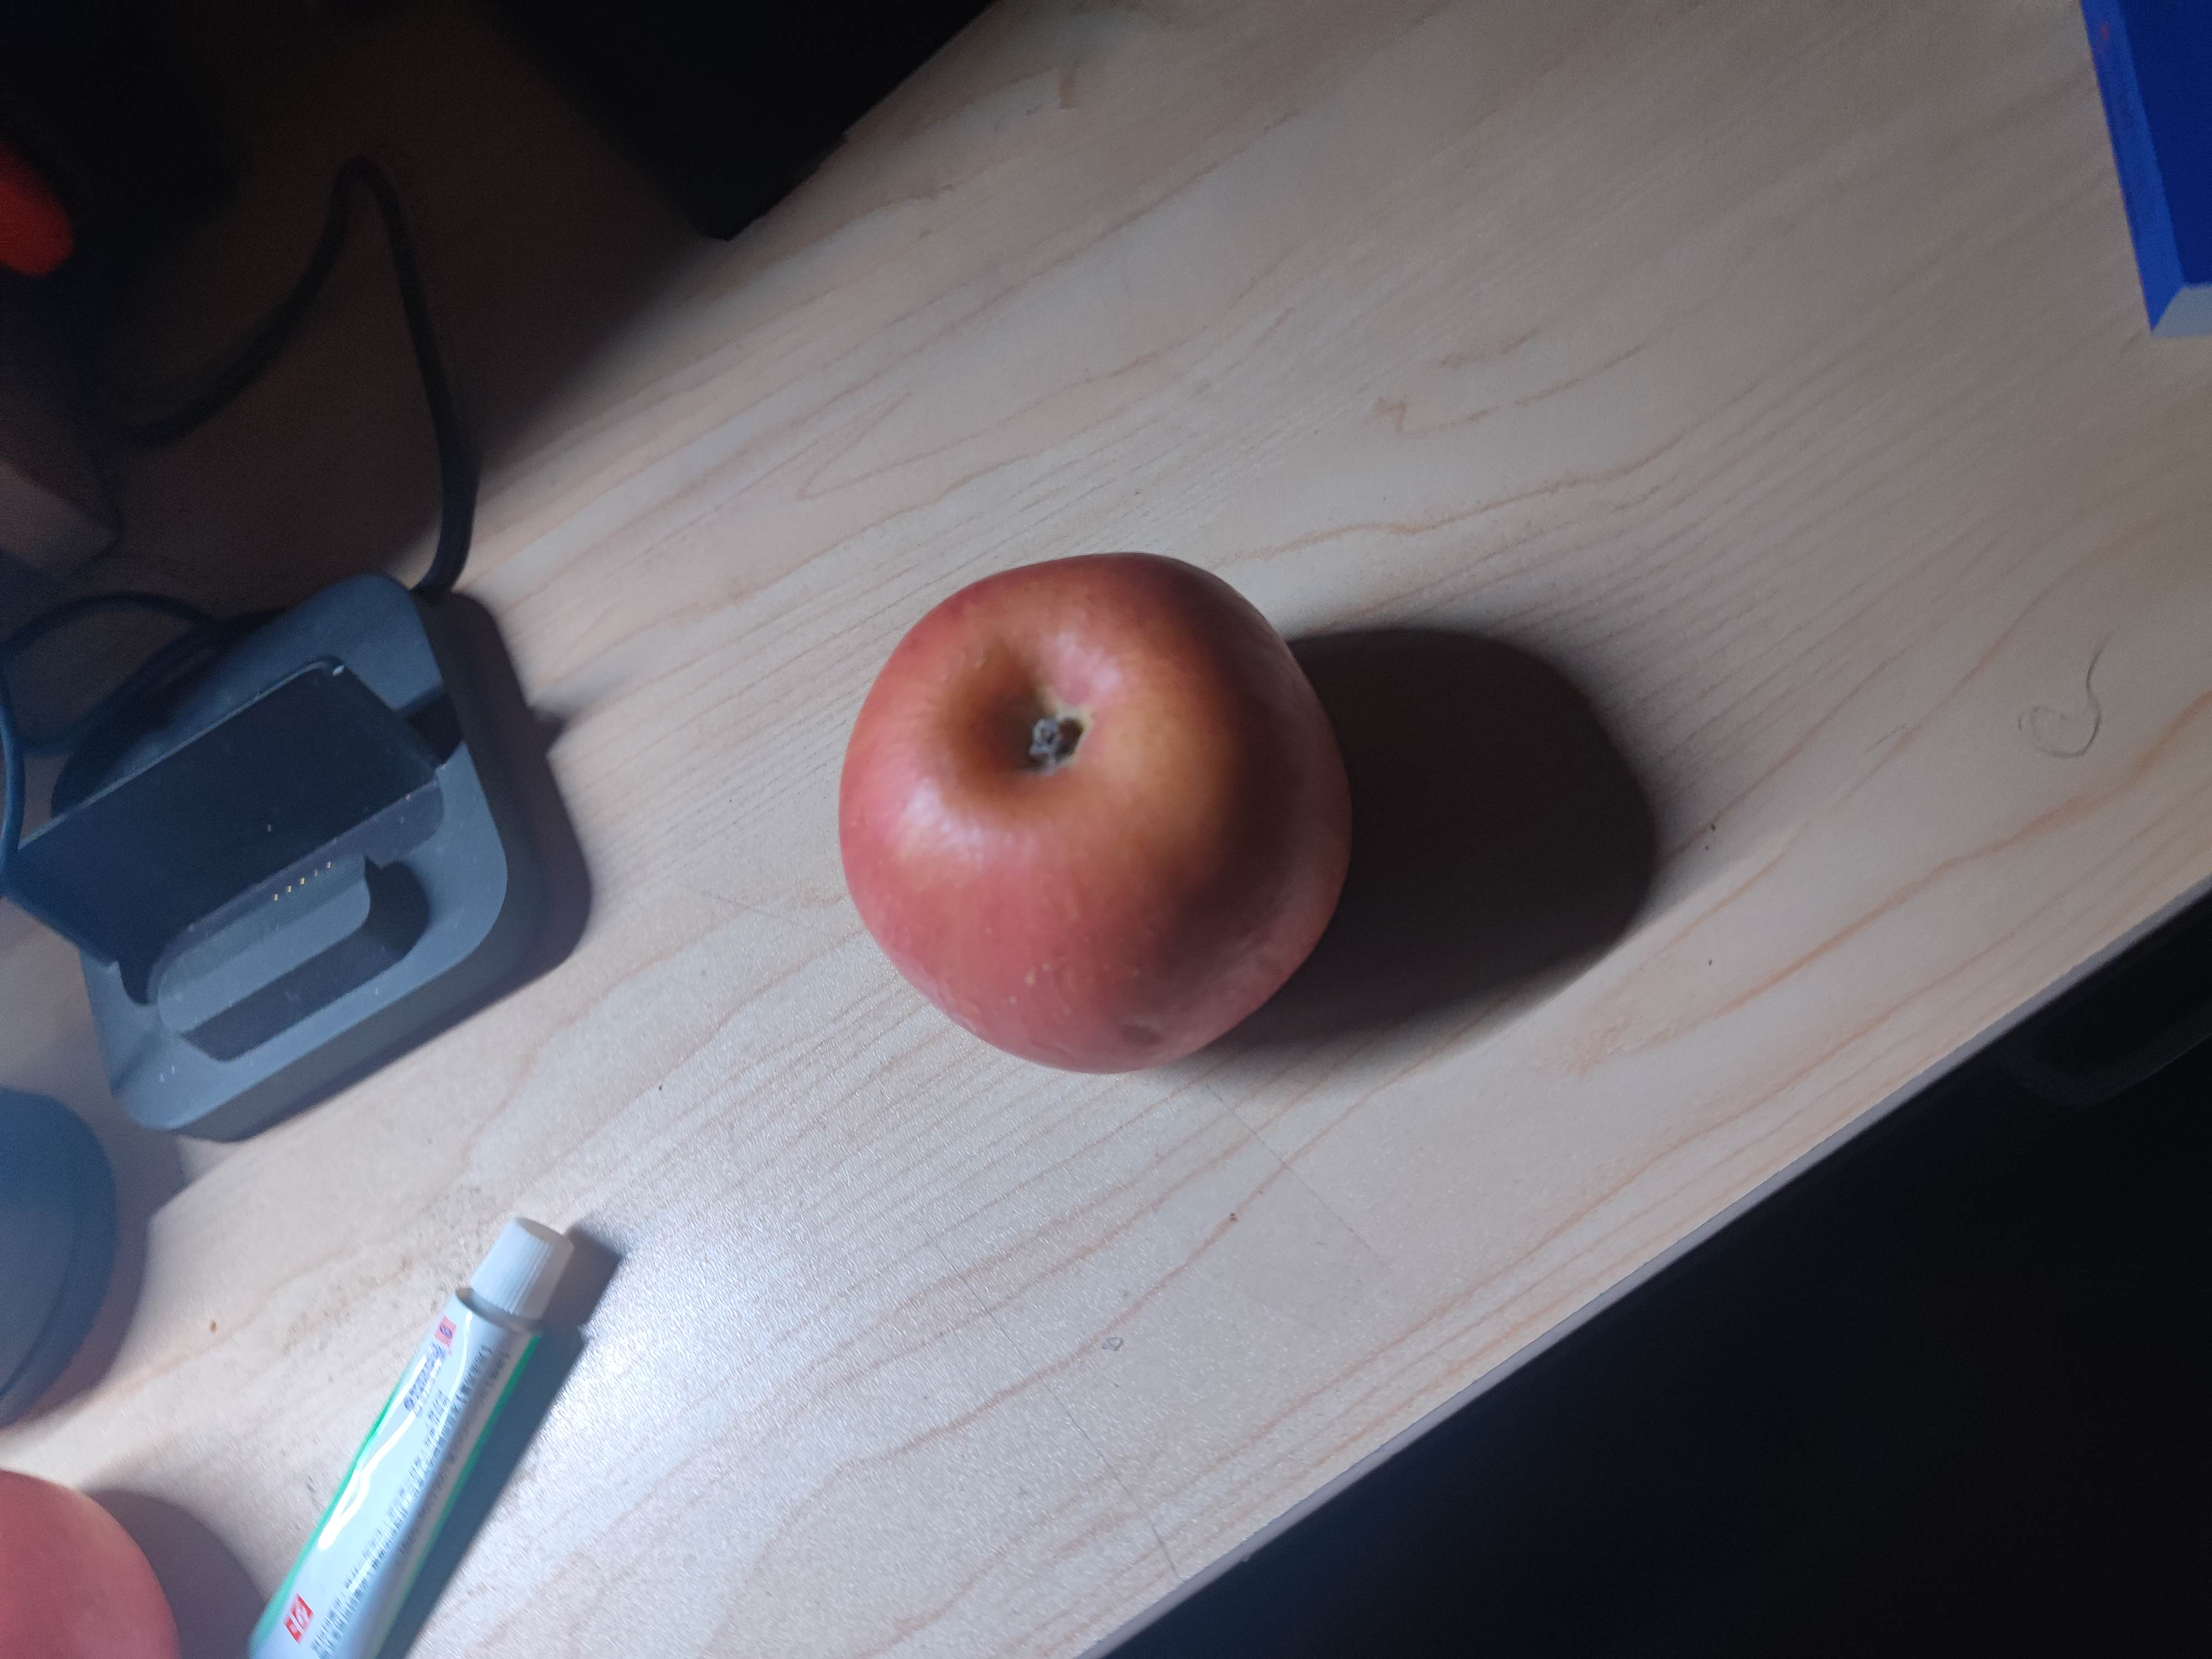apple: (834, 552, 1352, 1080)
